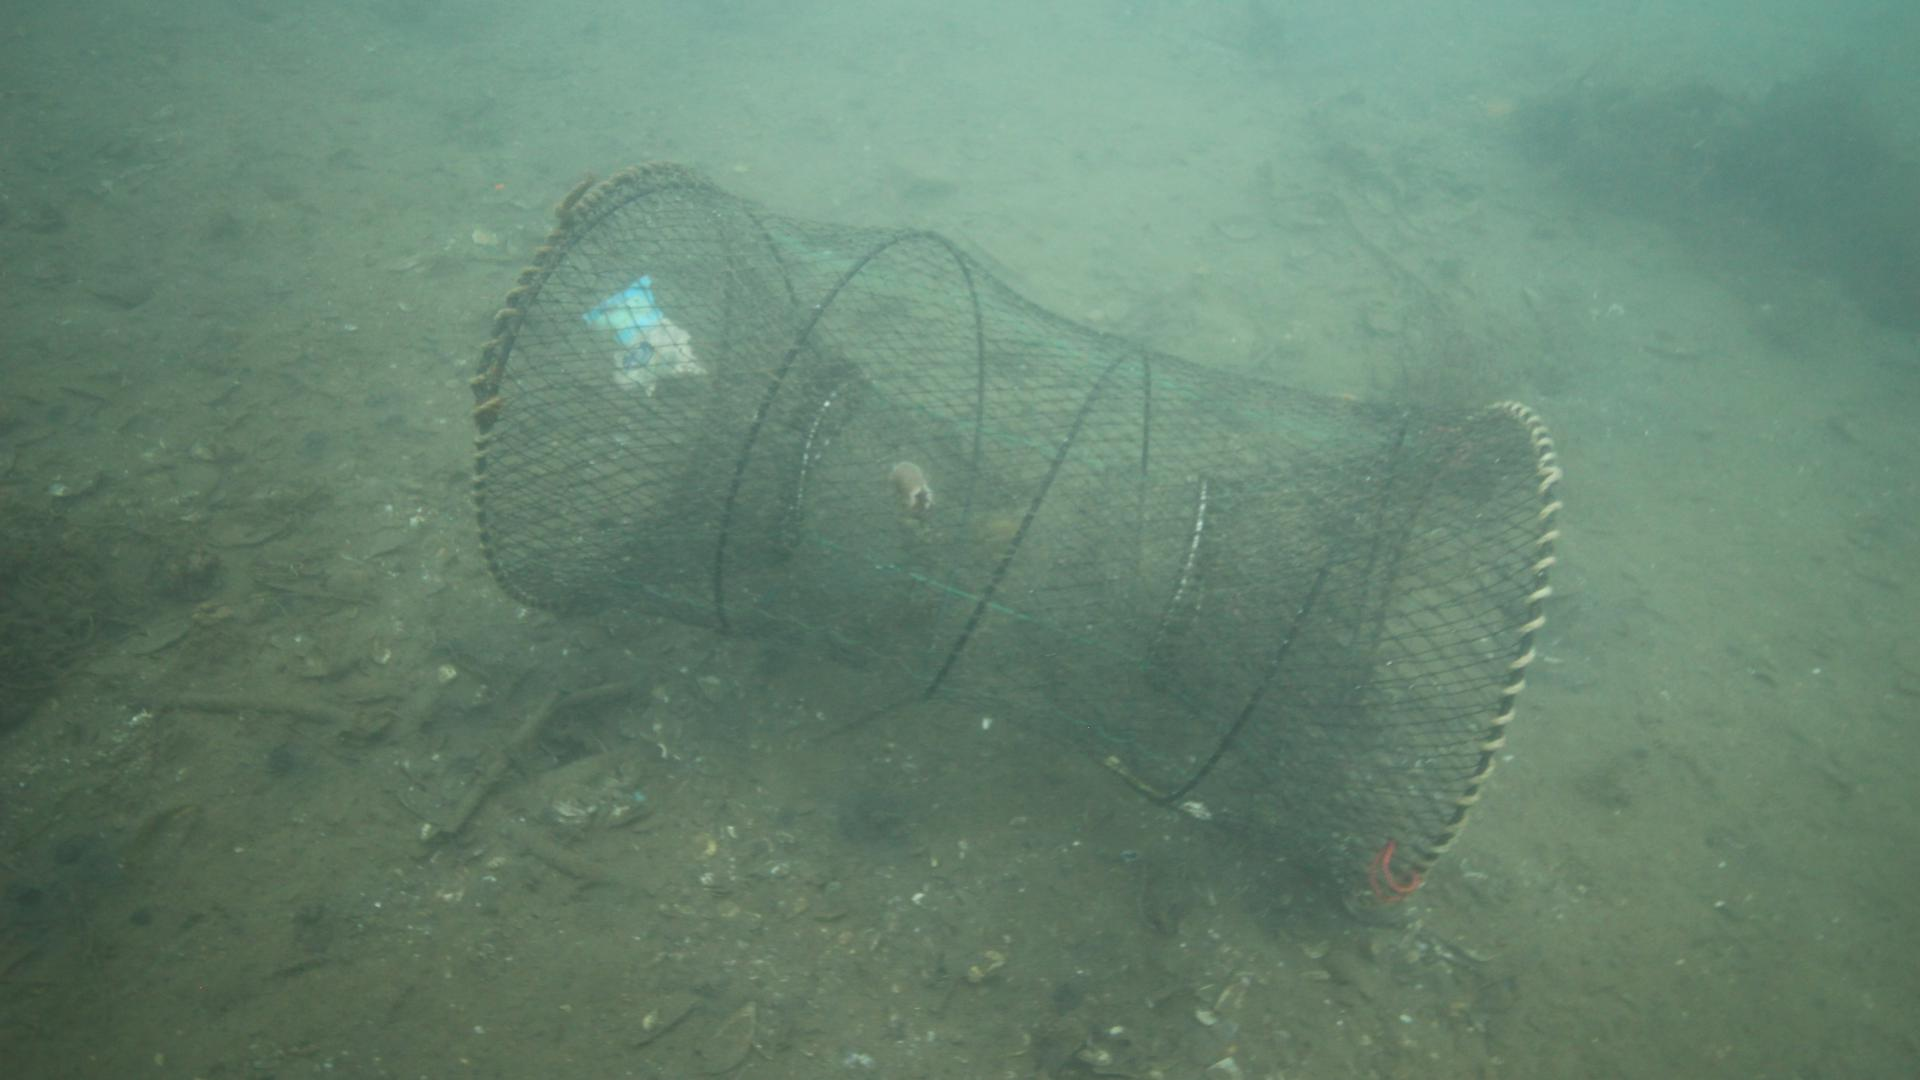spring fish trap: (473, 164, 1563, 897)
